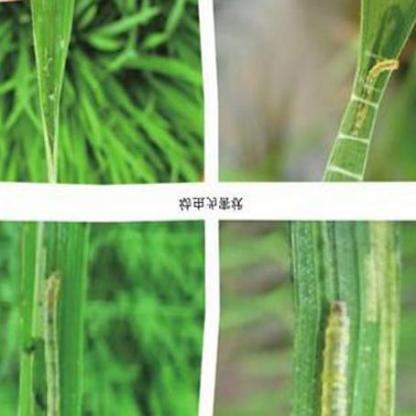leaf-folder: (28, 264, 85, 416), (312, 294, 366, 416), (349, 42, 405, 152)
